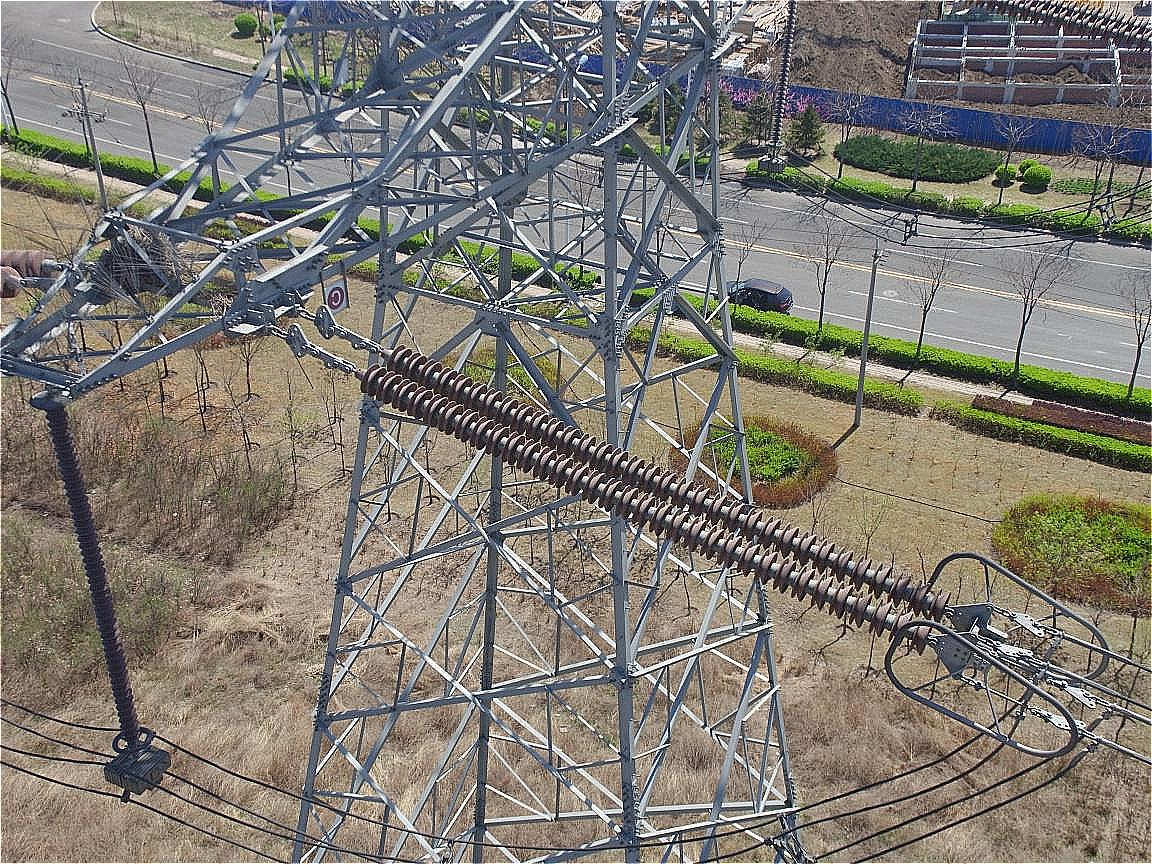insultor2: (350, 331, 957, 657)
